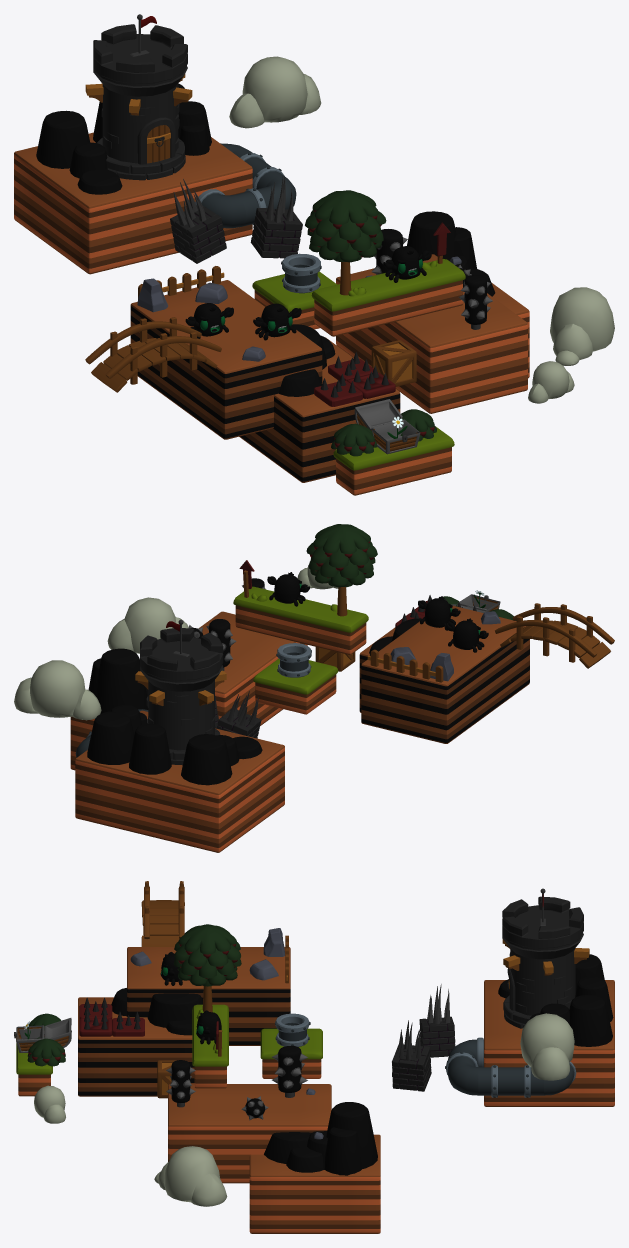
Rendered from Mapa_derecho.obj.
3 renders of one model, top to bottom at view 1: azimuth 30°, elevation 25°; view 2: azimuth 150°, elevation 25°; view 3: azimuth 270°, elevation 25°, orthographic. The views are drawn at different scales.
Visible parts, largest first — view 1: Cube_Dirt_Side_Tall.014, Cube_Grass_CornerBottom_Tall.021, Cube_Grass_SideBottom_Tall.044, Tower, Cube_Grass_1x1End, Tree_Fruit.001, Bridge_Small, Cloud_2, Cube_Grass_1x1End.004, RockPlatforms_1.001, Cloud_3.001, Cube_Bricks.001 (+25 smaller); view 2: Cube_Grass_CornerBottom_Tall.021, Cube_Dirt_Side_Tall.014, Tower, Cube_Grass_1x1End, Cube_Grass_SideBottom_Tall.044, Tree_Fruit.001, Bridge_Small, Cloud_2, Cube_Grass_Side_Tall.003, RockPlatforms_1.001, RockPlatforms_1.003, Cloud_3.001 (+12 smaller); view 3: Cube_Grass_SideBottom_Tall.044, Cube_Dirt_Side_Tall.014, Tower, Cube_Grass_CornerBottom_Tall.021, RockPlatforms_1.003, Tree_Fruit.001, Cloud_3.001, Cloud_2, Cube_Grass_1x1End, Bridge_Small, RockPlatforms_2.001, Cube_Bricks.005 (+23 smaller).
Part boxes in pixels (x1=…): Cube_Dirt_Side_Tall.014: x1=130, y1=280, x2=400, y2=482; Cube_Grass_CornerBottom_Tall.021: x1=14, y1=132, x2=252, y2=274; Cube_Grass_SideBottom_Tall.044: x1=336, y1=254, x2=529, y2=413; Tower: x1=85, y1=14, x2=192, y2=180; Cube_Grass_1x1End: x1=311, y1=259, x2=465, y2=336; Tree_Fruit.001: x1=305, y1=190, x2=386, y2=295; Bridge_Small: x1=85, y1=317, x2=221, y2=392; Cloud_2: x1=229, y1=56, x2=321, y2=128; Cube_Grass_1x1End.004: x1=333, y1=426, x2=454, y2=495; RockPlatforms_1.001: x1=36, y1=110, x2=122, y2=194; Cloud_3.001: x1=550, y1=287, x2=614, y2=365; Cube_Bricks.001: x1=170, y1=179, x2=226, y2=263; Cube_Grass_CornerBottom_Tall.021: x1=75, y1=710, x2=284, y2=852; Cube_Dirt_Side_Tall.014: x1=359, y1=605, x2=529, y2=743; Tower: x1=135, y1=619, x2=226, y2=765; Cube_Grass_1x1End: x1=233, y1=586, x2=368, y2=654; Cube_Grass_SideBottom_Tall.044: x1=70, y1=611, x2=307, y2=770; Tree_Fruit.001: x1=306, y1=524, x2=377, y2=616; Bridge_Small: x1=495, y1=603, x2=614, y2=668; Cloud_2: x1=14, y1=660, x2=101, y2=720; Cube_Grass_Side_Tall.003: x1=253, y1=658, x2=338, y2=714; RockPlatforms_1.001: x1=181, y1=734, x2=262, y2=785; RockPlatforms_1.003: x1=88, y1=648, x2=148, y2=713; Cloud_3.001: x1=107, y1=597, x2=188, y2=653; Cube_Grass_SideBottom_Tall.044: x1=168, y1=1084, x2=380, y2=1233; Cube_Dirt_Side_Tall.014: x1=78, y1=947, x2=290, y2=1096; Tower: x1=502, y1=888, x2=589, y2=1028; Cube_Grass_CornerBottom_Tall.021: x1=484, y1=980, x2=614, y2=1106; RockPlatforms_1.003: x1=264, y1=1102, x2=377, y2=1175; Tree_Fruit.001: x1=173, y1=924, x2=241, y2=1012; Cloud_3.001: x1=154, y1=1146, x2=227, y2=1206; Cloud_2: x1=520, y1=1013, x2=574, y2=1080; Cube_Grass_1x1End: x1=192, y1=1004, x2=228, y2=1088; Bridge_Small: x1=141, y1=881, x2=184, y2=946; RockPlatforms_2.001: x1=111, y1=988, x2=202, y2=1035; Cube_Bricks.005: x1=392, y1=1020, x2=431, y2=1091.
Bounding box in the file's own units: 32.76 × 17.05 × 36.7.
